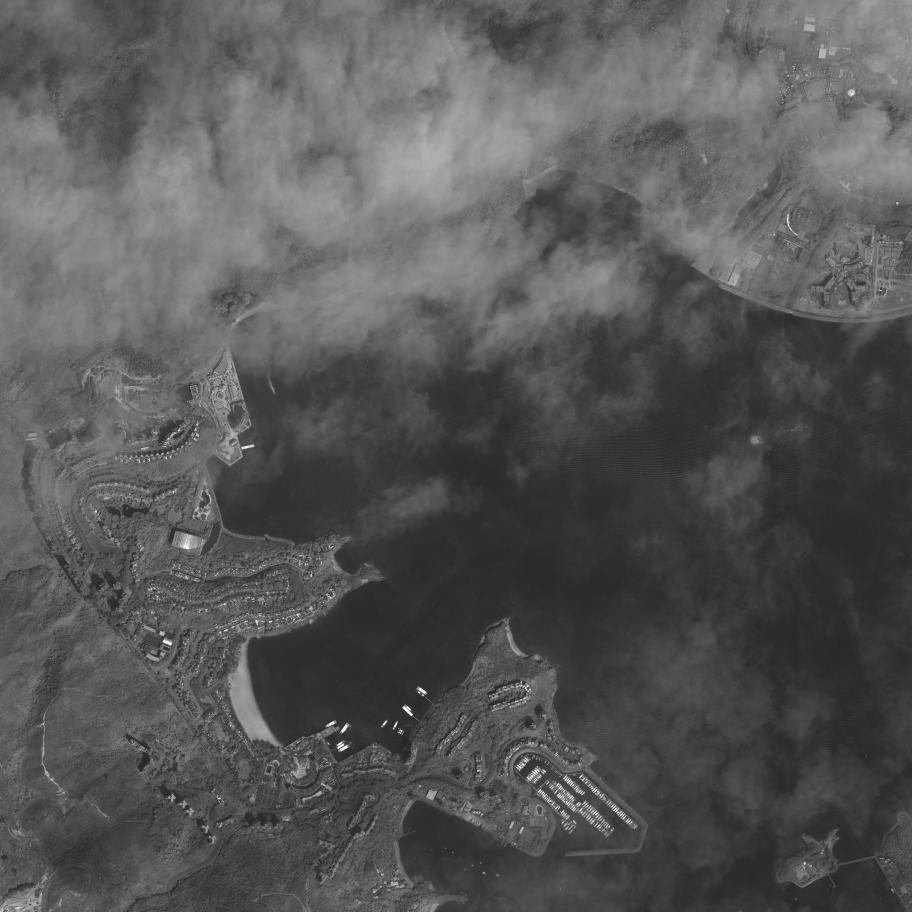ship: (339, 722, 350, 735), (416, 686, 429, 696), (337, 744, 350, 754), (324, 720, 337, 729), (380, 719, 389, 729), (392, 720, 399, 731), (404, 704, 413, 712), (335, 739, 345, 746), (336, 743, 345, 749), (568, 824, 574, 831), (620, 813, 626, 819), (588, 807, 594, 813), (590, 808, 596, 814), (590, 818, 596, 824), (583, 812, 589, 818), (611, 805, 616, 811), (606, 799, 611, 805), (583, 802, 589, 807), (587, 805, 592, 811), (592, 809, 597, 815), (593, 812, 599, 817), (597, 815, 602, 821), (599, 816, 604, 822), (590, 785, 595, 791), (515, 766, 521, 771), (518, 763, 524, 768), (520, 761, 525, 767), (563, 822, 569, 827), (526, 776, 532, 781), (534, 767, 540, 772), (578, 807, 583, 813), (582, 810, 587, 816), (587, 815, 592, 821), (589, 817, 594, 823), (554, 789, 559, 795), (610, 803, 615, 808), (625, 818, 630, 823), (622, 815, 627, 820), (619, 812, 624, 817), (618, 811, 623, 816), (616, 809, 621, 814), (614, 808, 619, 813), (613, 806, 618, 811), (607, 801, 612, 806), (604, 798, 609, 803), (601, 795, 606, 800), (599, 794, 604, 799), (595, 790, 600, 795), (593, 788, 598, 793), (592, 787, 597, 792), (572, 784, 577, 789), (573, 785, 578, 790), (576, 788, 581, 793), (581, 791, 586, 796), (582, 801, 587, 806), (585, 804, 590, 809), (633, 825, 638, 830), (595, 814, 600, 819), (600, 819, 605, 824), (602, 820, 607, 825), (603, 822, 608, 827), (517, 764, 522, 769), (583, 778, 588, 783), (524, 757, 529, 762), (521, 760, 526, 765), (555, 805, 560, 810), (556, 806, 561, 811), (560, 810, 565, 815), (564, 814, 569, 819), (567, 821, 572, 826), (555, 782, 560, 787), (547, 797, 552, 802), (545, 796, 550, 801), (528, 775, 533, 780), (531, 772, 536, 777), (532, 770, 537, 775), (575, 808, 580, 813), (580, 809, 585, 814), (586, 814, 591, 819), (592, 821, 597, 826), (594, 822, 599, 827), (605, 832, 610, 837), (562, 789, 567, 794), (571, 798, 576, 803), (543, 793, 547, 799), (627, 819, 631, 824), (624, 816, 628, 821), (630, 822, 634, 827), (602, 797, 606, 802), (598, 793, 603, 797), (597, 791, 601, 796), (628, 821, 633, 825), (577, 790, 582, 794), (579, 790, 583, 795), (605, 824, 610, 828), (607, 825, 611, 830), (610, 827, 614, 832), (589, 784, 594, 788), (588, 782, 592, 787), (495, 873, 500, 877), (482, 871, 487, 875), (401, 731, 405, 736), (587, 781, 591, 786), (396, 728, 400, 733), (326, 741, 330, 746), (582, 777, 586, 782), (581, 775, 585, 780), (579, 774, 583, 779), (526, 755, 530, 760), (523, 759, 528, 763), (571, 783, 575, 788), (570, 782, 574, 787), (568, 781, 573, 785), (551, 801, 555, 806), (552, 802, 556, 807), (553, 804, 558, 808), (559, 809, 563, 814), (562, 811, 566, 816), (566, 815, 570, 820), (558, 785, 562, 790), (569, 829, 573, 834), (550, 800, 554, 805), (548, 799, 553, 803), (525, 778, 529, 783), (529, 774, 534, 778), (534, 769, 538, 774), (536, 766, 541, 770), (541, 769, 546, 773), (537, 789, 542, 793), (540, 791, 545, 795), (542, 792, 546, 797), (544, 795, 548, 800), (567, 779, 571, 784), (573, 807, 577, 812), (575, 802, 580, 806), (577, 803, 582, 807), (561, 787, 565, 792), (597, 824, 601, 829), (598, 825, 602, 830), (599, 827, 604, 831), (601, 828, 605, 833), (603, 829, 607, 834), (563, 775, 567, 780), (572, 806, 576, 811), (570, 805, 575, 809), (569, 803, 573, 808), (567, 802, 571, 807), (566, 793, 571, 797), (569, 795, 573, 800), (570, 796, 574, 801), (557, 792, 561, 797), (558, 793, 562, 798), (559, 795, 564, 799), (564, 800, 569, 804), (609, 803, 613, 807), (632, 824, 636, 828), (575, 787, 579, 791), (398, 729, 402, 733), (585, 780, 589, 784), (563, 813, 567, 817), (561, 820, 565, 824), (573, 820, 577, 824), (565, 826, 569, 830), (573, 826, 577, 830), (532, 780, 536, 784), (535, 777, 539, 781), (536, 776, 540, 780), (539, 773, 543, 777), (541, 770, 545, 774), (539, 790, 543, 794), (557, 784, 561, 788), (559, 787, 563, 791), (604, 831, 608, 835), (564, 777, 568, 781), (566, 778, 570, 782), (565, 792, 569, 796), (568, 794, 572, 798), (546, 781, 550, 785), (549, 785, 553, 789), (551, 787, 555, 791), (561, 796, 565, 800), (562, 798, 566, 802), (564, 799, 568, 803), (566, 801, 570, 805), (400, 729, 403, 734), (537, 775, 542, 778), (564, 790, 567, 795), (561, 818, 564, 822), (553, 781, 556, 785), (554, 782, 557, 786), (534, 779, 538, 782), (551, 786, 554, 790), (553, 788, 556, 792), (444, 847, 447, 850), (451, 851, 454, 854), (464, 868, 467, 871), (471, 864, 474, 867), (479, 861, 482, 864), (554, 769, 557, 772), (552, 768, 555, 771), (552, 780, 555, 783), (548, 784, 551, 787), (559, 887, 561, 891), (628, 857, 630, 860), (430, 849, 433, 851), (559, 775, 562, 777), (556, 770, 558, 773), (551, 767, 553, 770), (538, 758, 540, 761), (536, 757, 538, 760), (532, 756, 534, 759), (556, 772, 558, 774), (547, 763, 549, 765), (545, 761, 547, 763), (573, 774, 576, 775), (534, 756, 535, 759)
